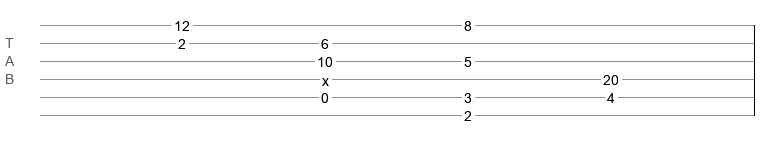0: (321, 90, 329, 100)
10: (317, 54, 333, 64)
12: (174, 18, 190, 28)
2: (178, 36, 186, 46), (464, 108, 472, 118)
20: (603, 72, 619, 82)
3: (464, 90, 472, 100)
4: (607, 90, 615, 100)
5: (464, 54, 472, 64)
6: (321, 36, 329, 46)
8: (464, 18, 472, 28)
x: (322, 73, 329, 81)
